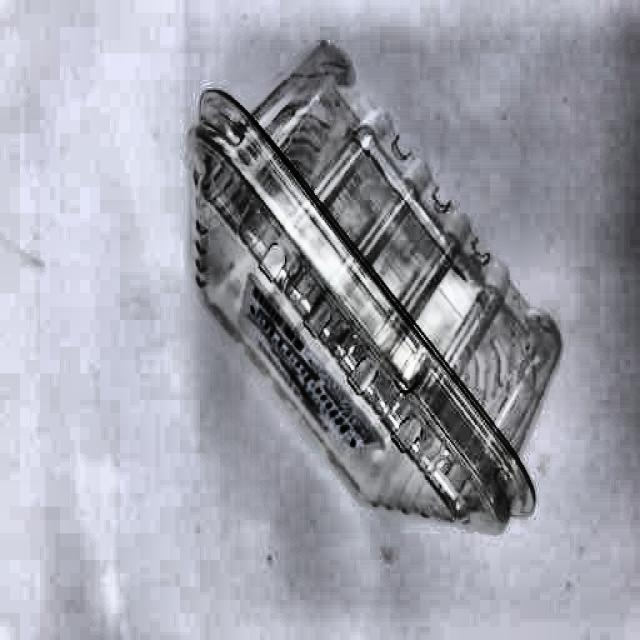plastic: (180, 39, 557, 555)
